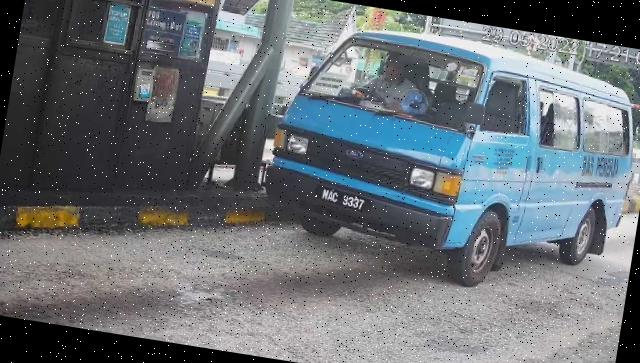License_Plate: (313, 183, 377, 218)
van: (254, 12, 640, 308)
